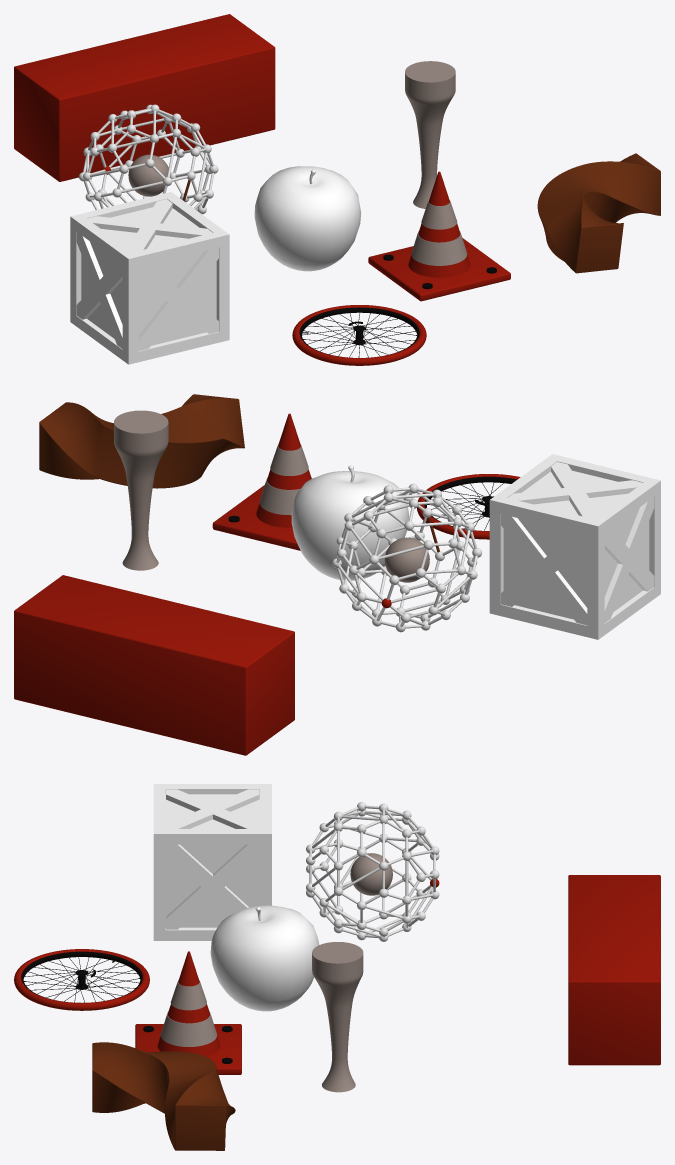
File: RandomObjects.fbx
The picture shows the model from 3 angles, top to bottom: view 1: azimuth 30°, elevation 25°; view 2: azimuth 150°, elevation 25°; view 3: azimuth 270°, elevation 25°; orthographic projection. The views are drawn at different scales.
Visible parts, largest first — view 1: Cube_1, Null, Cube, GreenApple_phong3_0, Cylinder, Cone, Cube_2, front_wheel, front_tire, center; view 2: Cube_1, Null, Cube, GreenApple_phong3_0, Cylinder, Cone, Cube_2, center, front_wheel, front_tire; view 3: Cube_1, Null, Cube, GreenApple_phong3_0, Cylinder, Cone, front_wheel, front_tire, Cube_2, center.
Part boxes in pixels (box(x1,y1,x2,y2)): Cube_1: box(14, 14, 275, 181); Null: box(70, 192, 229, 364); Cube: box(537, 153, 660, 273); GreenApple_phong3_0: box(254, 166, 361, 271); Cylinder: box(405, 61, 455, 208); Cone: box(408, 171, 470, 277); Cube_2: box(368, 238, 510, 301); front_wheel: box(299, 307, 419, 357); front_tire: box(292, 305, 426, 365); center: box(128, 154, 170, 196); Cube_1: box(14, 575, 294, 755); Null: box(489, 454, 660, 639); Cube: box(39, 394, 244, 488); GreenApple_phong3_0: box(291, 465, 409, 580); Cylinder: box(114, 410, 168, 570); Cone: box(256, 413, 311, 527); Cube_2: box(212, 485, 300, 550); center: box(384, 537, 429, 582); front_wheel: box(424, 476, 517, 530); front_tire: box(417, 474, 520, 539); Cube_1: box(568, 875, 660, 1065); Null: box(153, 784, 271, 940); Cube: box(92, 1042, 235, 1150); GreenApple_phong3_0: box(210, 905, 319, 1011); Cylinder: box(312, 942, 363, 1092); Cone: box(157, 951, 220, 1056); front_wheel: box(21, 951, 142, 1002); front_tire: box(14, 949, 149, 1010); Cube_2: box(135, 1024, 241, 1074); center: box(350, 853, 392, 895).
Bounding box in the file's own units: 119 × 30.06 × 121.
